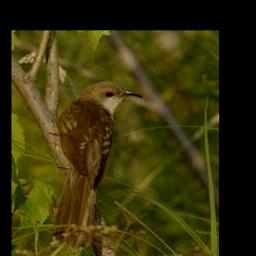Cuckoo: (50, 81, 142, 249)
